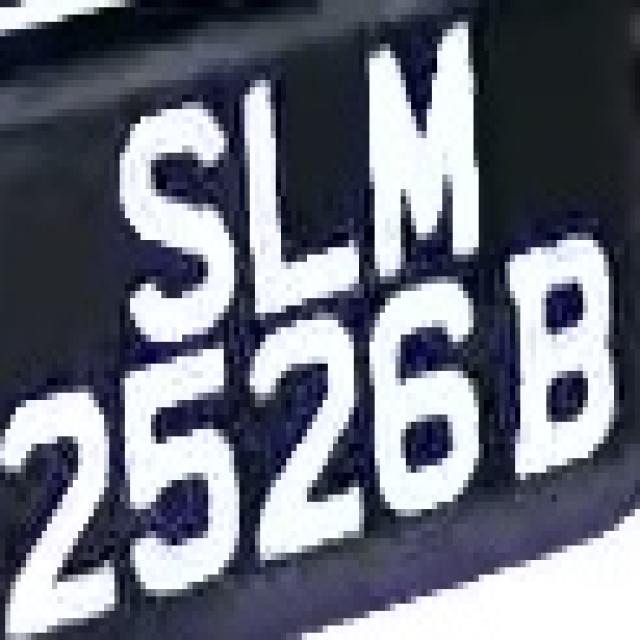2: (239, 305, 375, 582), (0, 4, 1, 8)
5: (104, 334, 250, 611)
6: (364, 254, 484, 531)
B: (494, 225, 624, 480)
L: (229, 58, 369, 320)
M: (349, 7, 494, 291)
S: (94, 102, 234, 349)
